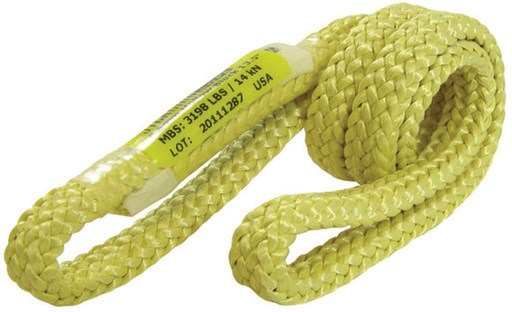Nonrec_Tangler: (1, 7, 510, 302)
